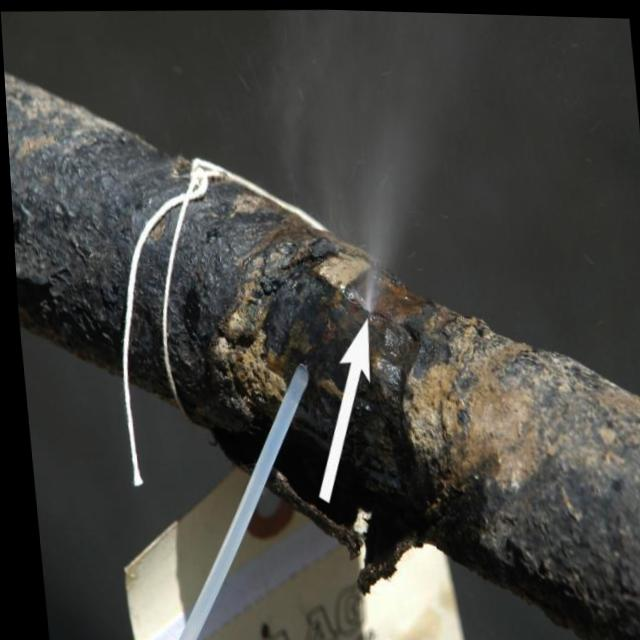leak: (249, 11, 549, 313)
